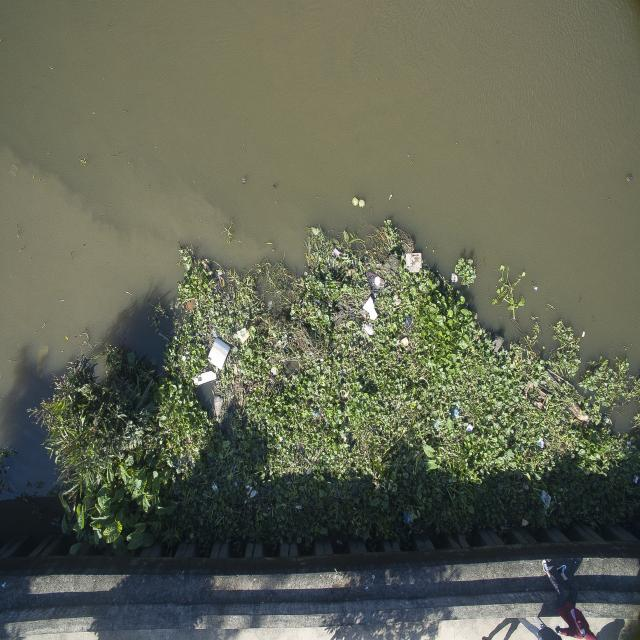debris: (206, 337, 230, 370), (404, 252, 424, 273), (363, 298, 378, 320), (193, 372, 217, 384), (540, 488, 553, 509), (180, 300, 197, 314), (352, 193, 365, 210), (245, 485, 258, 501), (330, 248, 344, 262), (236, 328, 249, 342), (373, 276, 387, 289), (294, 499, 305, 514), (537, 435, 547, 449), (271, 365, 280, 380), (465, 422, 475, 435), (399, 337, 410, 348), (311, 406, 319, 421), (449, 272, 459, 284), (364, 324, 375, 334), (452, 406, 461, 418), (579, 328, 587, 339), (603, 416, 612, 425), (531, 284, 539, 293)
plastic: (209, 479, 220, 497), (402, 511, 414, 526), (631, 472, 639, 486), (404, 316, 413, 328), (388, 192, 394, 202), (349, 310, 356, 318), (271, 182, 277, 191)
